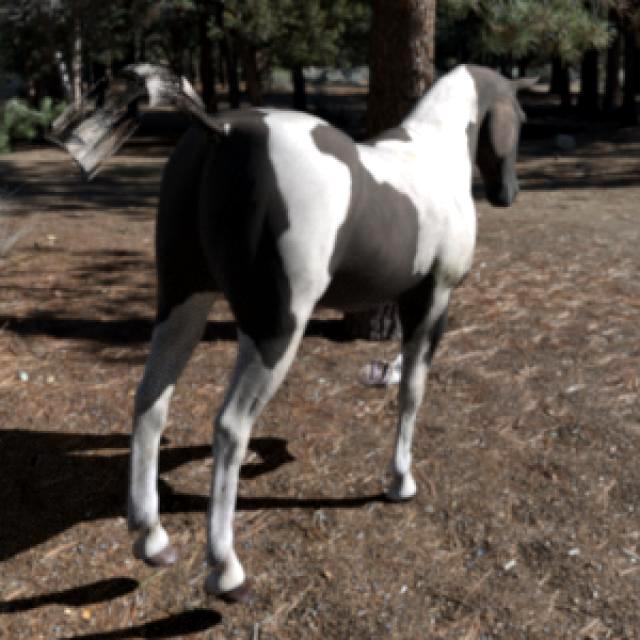horse: (50, 64, 529, 602)
